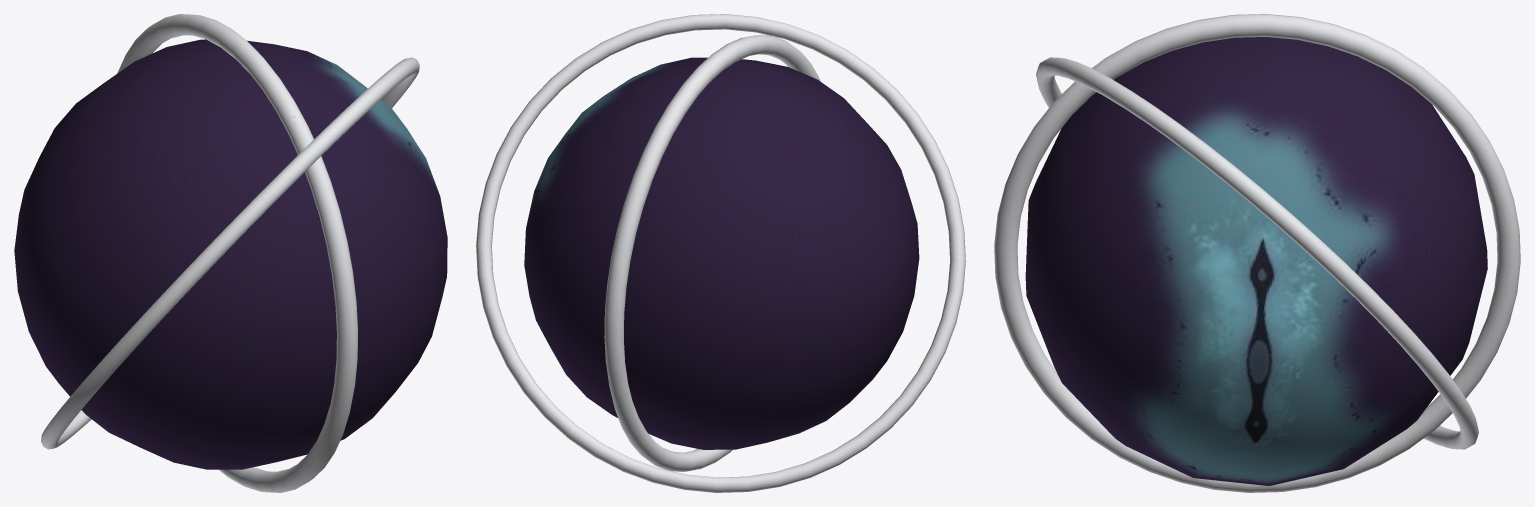
File: eye_ghost.glb
3 renders of one model, left to right at view 1: azimuth 30°, elevation 25°; view 2: azimuth 150°, elevation 25°; view 3: azimuth 270°, elevation 25°, orthographic. The views are drawn at different scales.
Parts seen in each view (by area): view 1: eye_ghost; view 2: eye_ghost; view 3: eye_ghost.
Boxes of the visible parts, left/top/right/bottom form: eye_ghost: left=14, top=14, right=447, bottom=492; eye_ghost: left=476, top=14, right=965, bottom=492; eye_ghost: left=994, top=14, right=1520, bottom=492.
Bounding box in the file's own units: 0.0588 × 0.06 × 0.06.
1 material, 1 textured.
